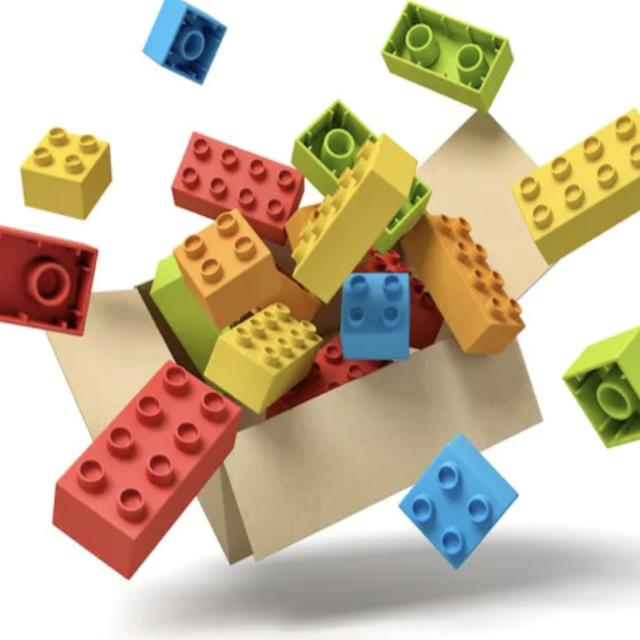recyclable: (33, 341, 252, 587), (384, 189, 538, 366), (499, 86, 640, 266), (162, 114, 329, 253), (392, 424, 530, 587), (8, 111, 139, 230)
